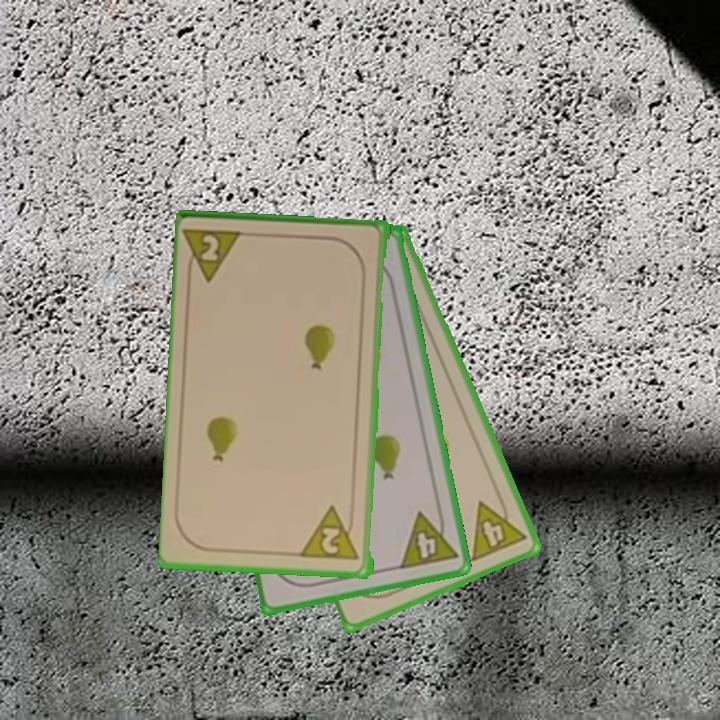2p: (183, 225, 249, 286), (300, 503, 363, 564)
4p: (467, 490, 529, 565), (396, 504, 461, 572)
